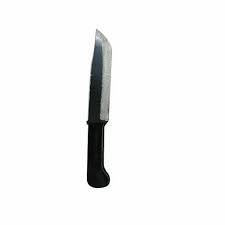Knife: (86, 28, 112, 188)
